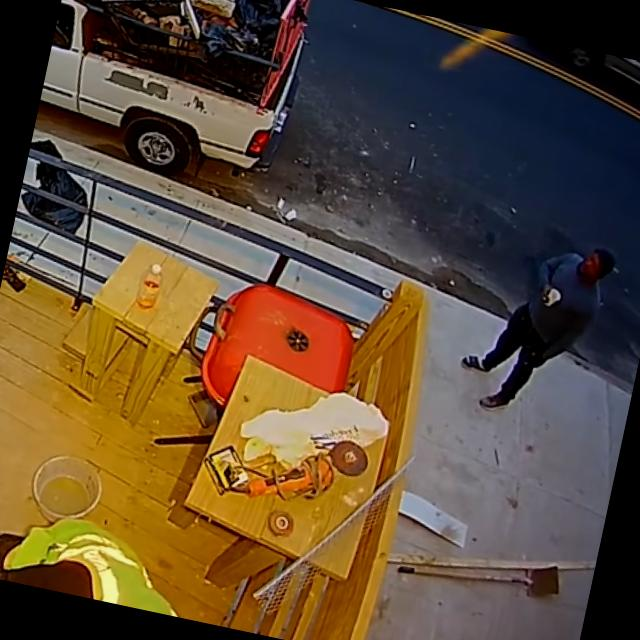person: (456, 226, 616, 427), (0, 498, 194, 617)
